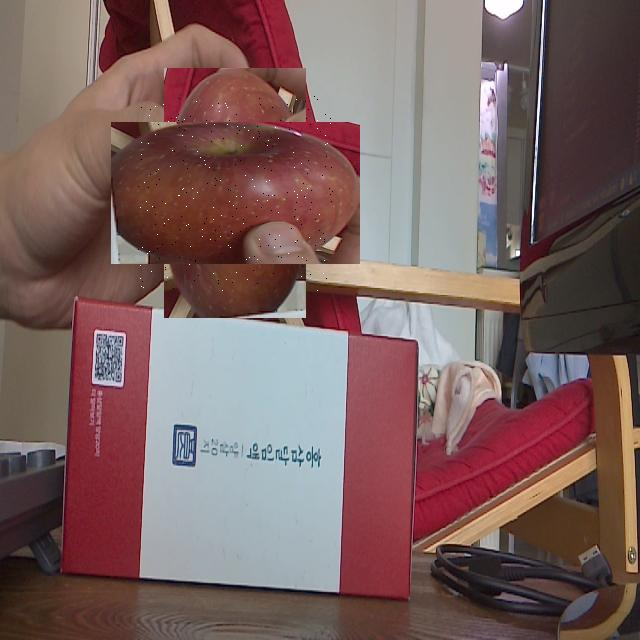apple: (137, 95, 333, 291)
